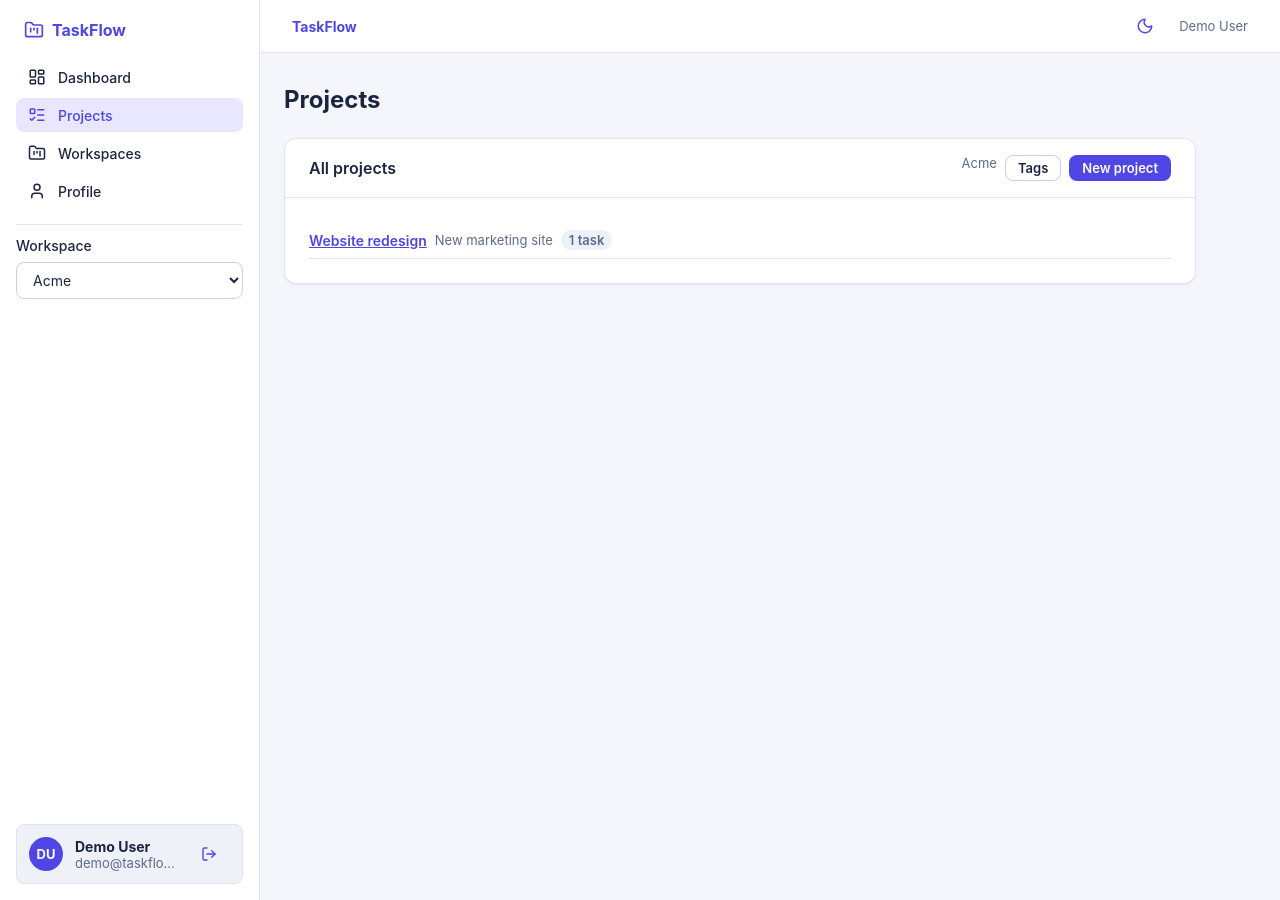
create-pane — "Creating a task closes the drawer and updates the list" (@w1) › posts the task, closes the drawer and reloads the list
Later steps or results of the test are not shown.
Click the link "Website redesign" at (368, 240), box x1=309 y1=232 x2=427 y2=248
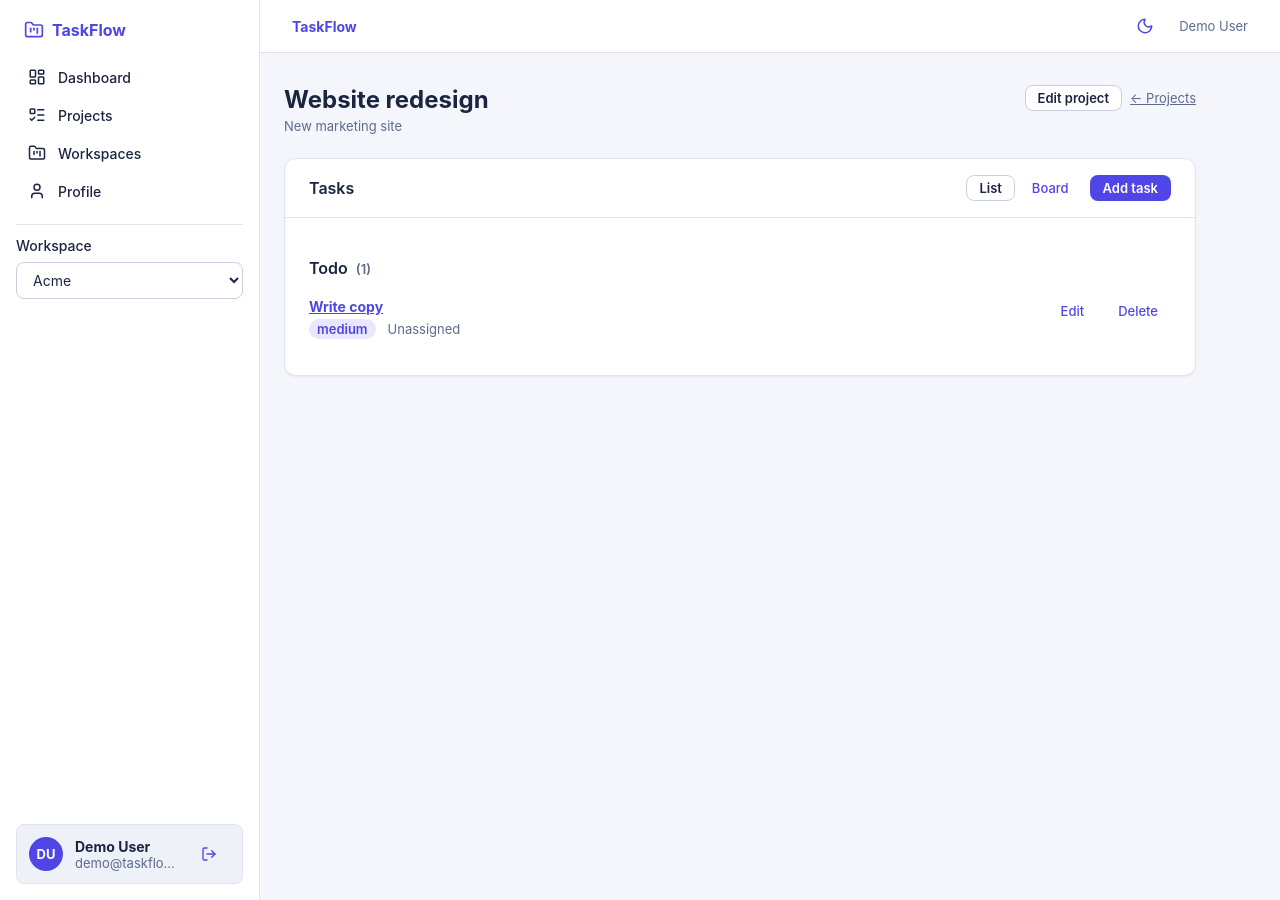
Now the link "Write copy" is shown, box x1=309 y1=298 x2=383 y2=315
